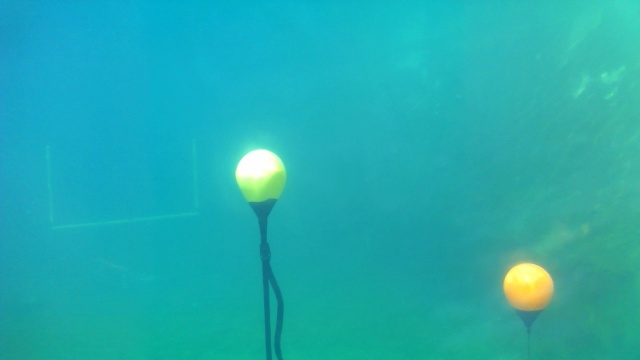channel: (43, 139, 201, 230)
